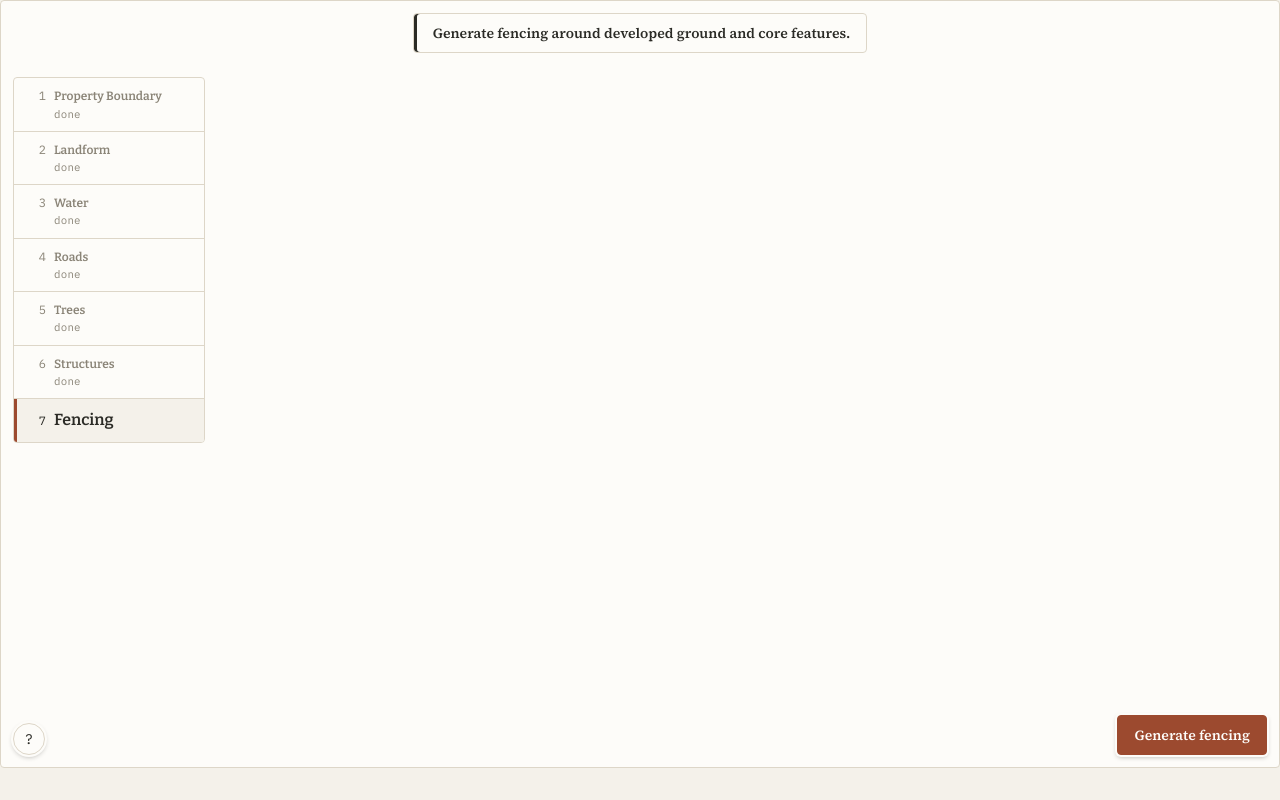
Test: 1. the fencing entry registers one card › opens by itself on "Generate fencing", through the shipped shell and registry
Click the button "Generate fencing" at (1192, 735), box 1118,715 -> 1267,755
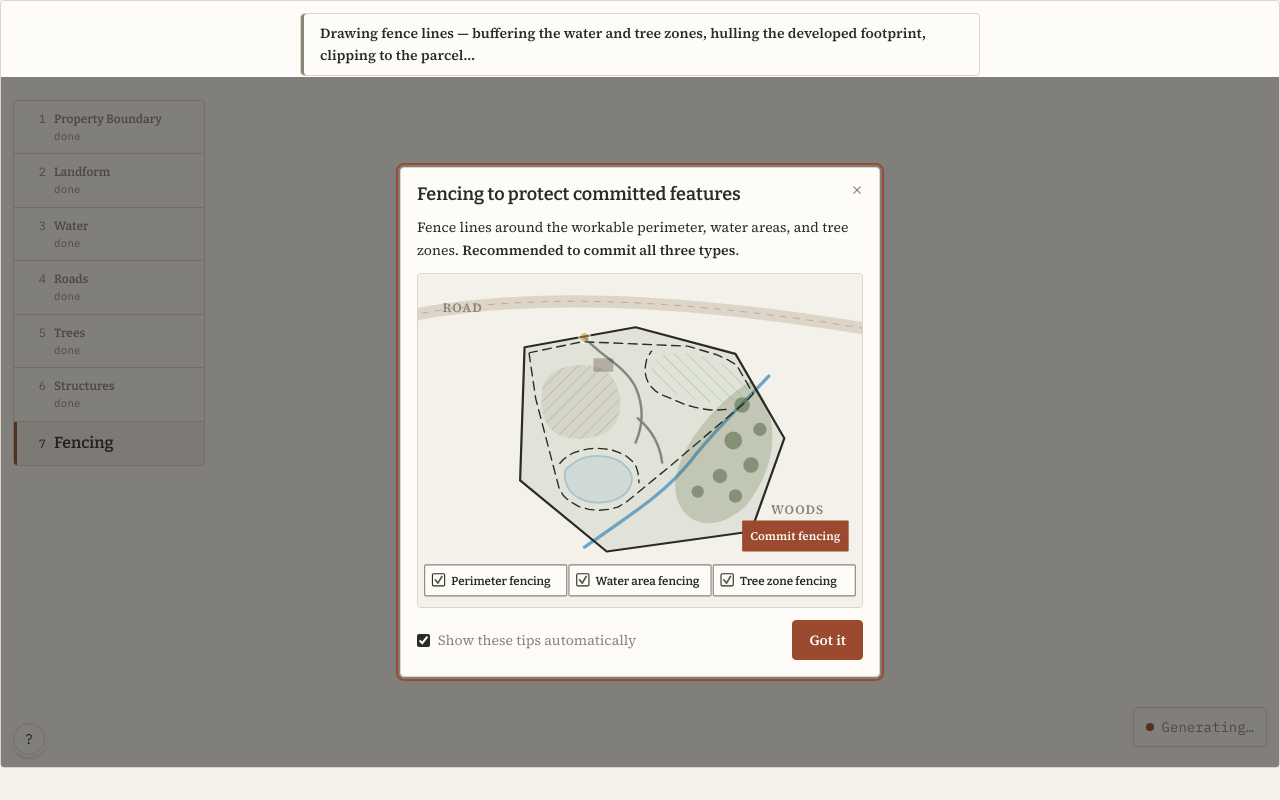
Result: the heading "Fencing to protect committed features" is shown at 417,183 -> 741,205
Result: the picture with class "tutorial-anim--fencing" is shown at 418,274 -> 862,607
